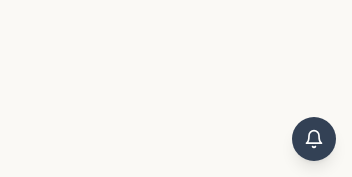
it: reading the list › says so plainly when there is nothing to see
The width and height of the screenshot is (352, 177).
Step 1. Click the button titled "Feature alerts" → [314, 139], box [292,117,336,161]
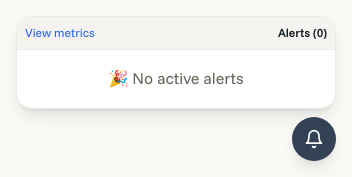
Expected: the text "No active alerts 🎉" is shown, [108,68,244,88]
